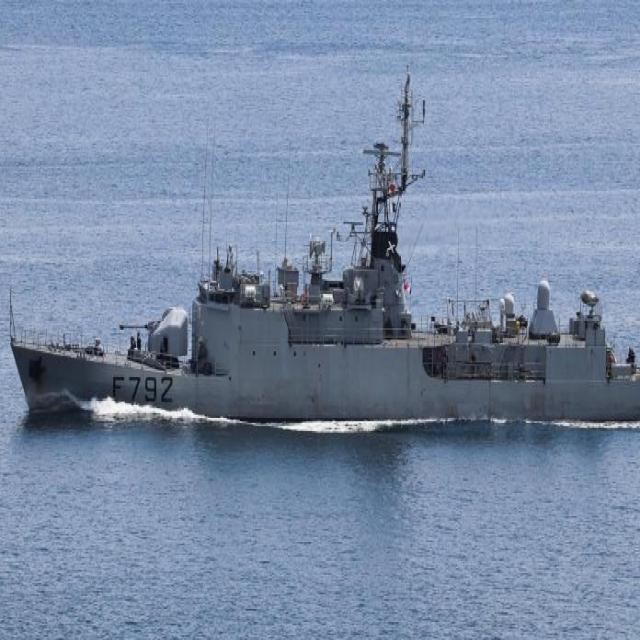Fragata: (2, 88, 640, 432)
